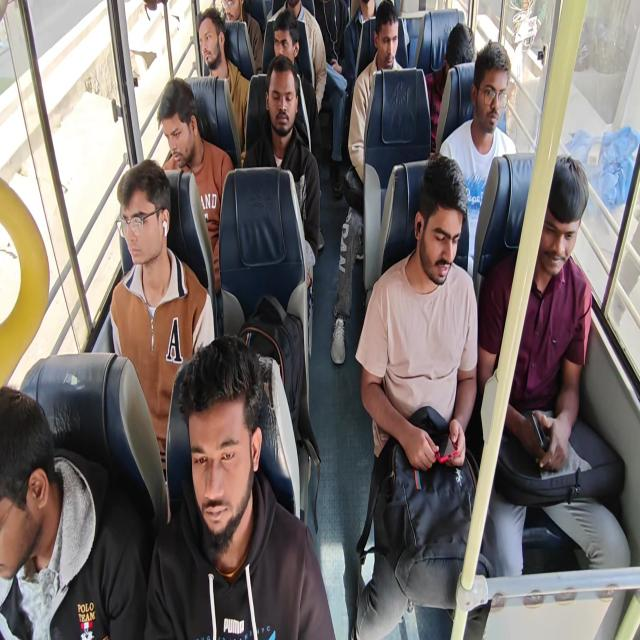person: (160, 313, 283, 593), (0, 324, 88, 640), (490, 127, 590, 319), (392, 147, 497, 319), (155, 76, 226, 214), (108, 172, 180, 295), (250, 51, 311, 178), (474, 39, 525, 130), (270, 16, 310, 99), (191, 19, 228, 98), (373, 5, 415, 72), (439, 40, 481, 101), (218, 0, 256, 41), (324, 0, 343, 76), (354, 0, 384, 35), (280, 0, 310, 18)
